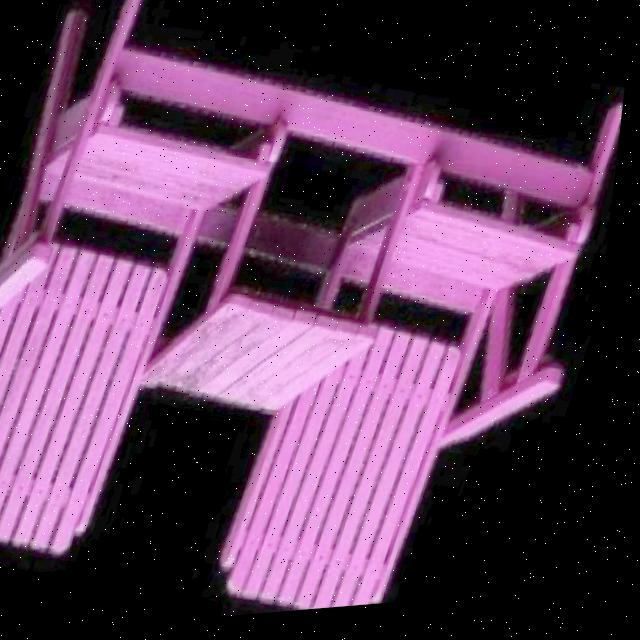sandalye: (0, 0, 335, 585)
